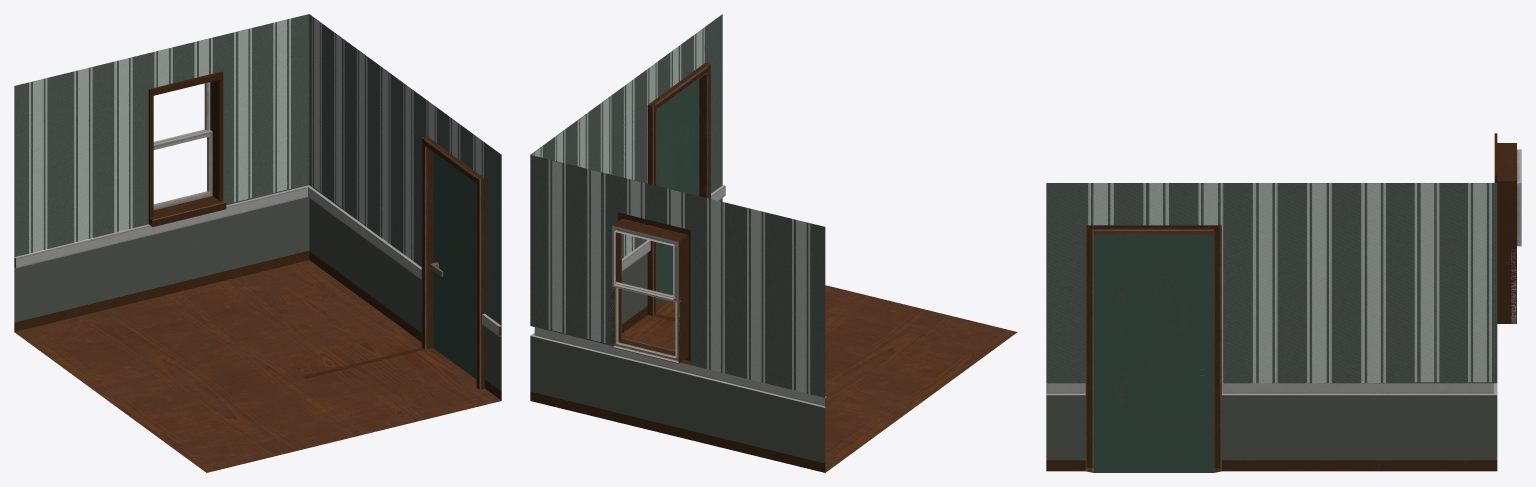
The model's file is wall_floor_model_corner_room.glb.
3 renders of one model, left to right at view 1: azimuth 30°, elevation 25°; view 2: azimuth 150°, elevation 25°; view 3: azimuth 270°, elevation 25°, orthographic. The views are drawn at different scales.
Parts seen in each view (by area): view 1: Wall_FloorModel_CornerRoom; view 2: Wall_FloorModel_CornerRoom; view 3: Wall_FloorModel_CornerRoom.
Part boxes in pixels (x1,y1,x2,y2): Wall_FloorModel_CornerRoom: [14, 14, 501, 472]; Wall_FloorModel_CornerRoom: [530, 14, 1017, 472]; Wall_FloorModel_CornerRoom: [1046, 133, 1521, 472].
Size of the model in its own units: 132 by 104 by 155.
1 material, 1 textured.
